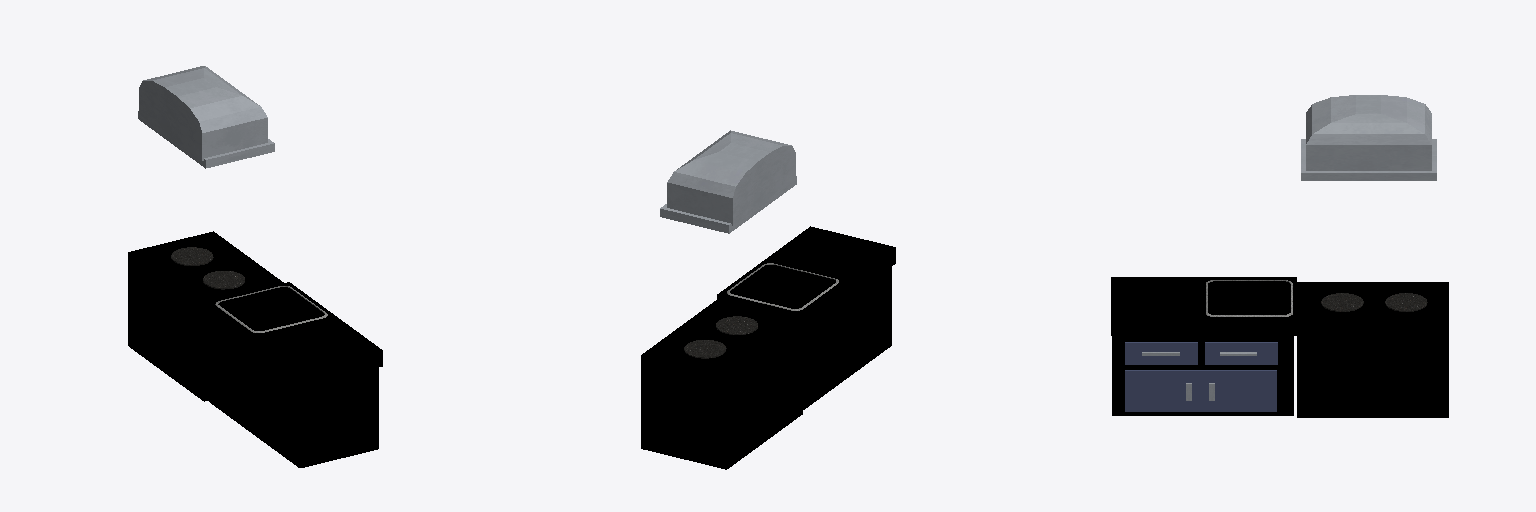
The picture shows the model from 3 angles: view 1: azimuth 30°, elevation 25°; view 2: azimuth 150°, elevation 25°; view 3: azimuth 270°, elevation 25°; orthographic projection.
Visible parts, largest first — view 1: polySurface3; view 2: polySurface3; view 3: polySurface3.
Part boxes in pixels (left/top/right/bottom): polySurface3: left=128, top=66, right=382, bottom=467; polySurface3: left=641, top=130, right=895, bottom=469; polySurface3: left=1111, top=95, right=1448, bottom=417.
Bounding box in the file's own units: 1.65 × 5.13 × 5.56.
7 materials, 4 textured.